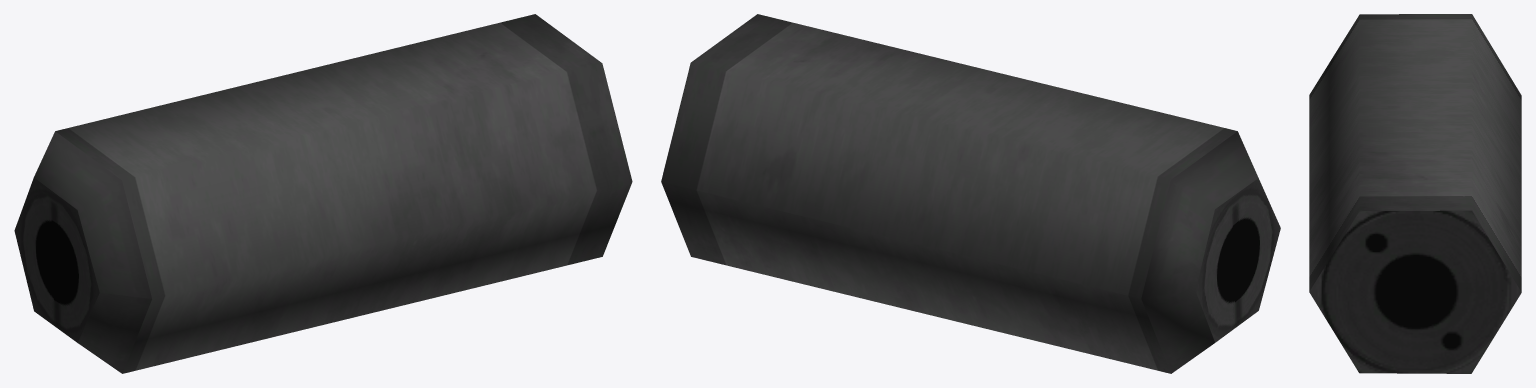
File: t6_attach_shotgun_silencer1_world_LOD1.obj
The picture shows the model from 3 angles, left to right: view 1: azimuth 30°, elevation 25°; view 2: azimuth 150°, elevation 25°; view 3: azimuth 270°, elevation 25°; orthographic projection. The views are drawn at different scales.
Visible parts, largest first — view 1: mtl_t6_attach_shotgun_silencer1; view 2: mtl_t6_attach_shotgun_silencer1; view 3: mtl_t6_attach_shotgun_silencer1.
Part boxes in pixels (box(x1,y1,x2,y2)): mtl_t6_attach_shotgun_silencer1: box(14, 14, 632, 373); mtl_t6_attach_shotgun_silencer1: box(661, 14, 1280, 373); mtl_t6_attach_shotgun_silencer1: box(1309, 14, 1521, 373).
Size of the model in its own units: 12.42 by 4.5 by 5.31.
